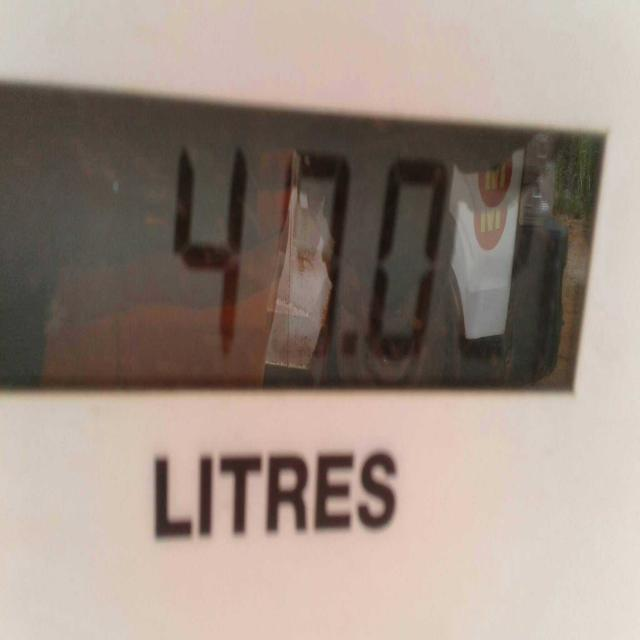.: (340, 325, 358, 349)
0: (378, 157, 443, 363)
2: (461, 157, 532, 376)
4: (169, 144, 244, 346)
8: (281, 149, 347, 374)
